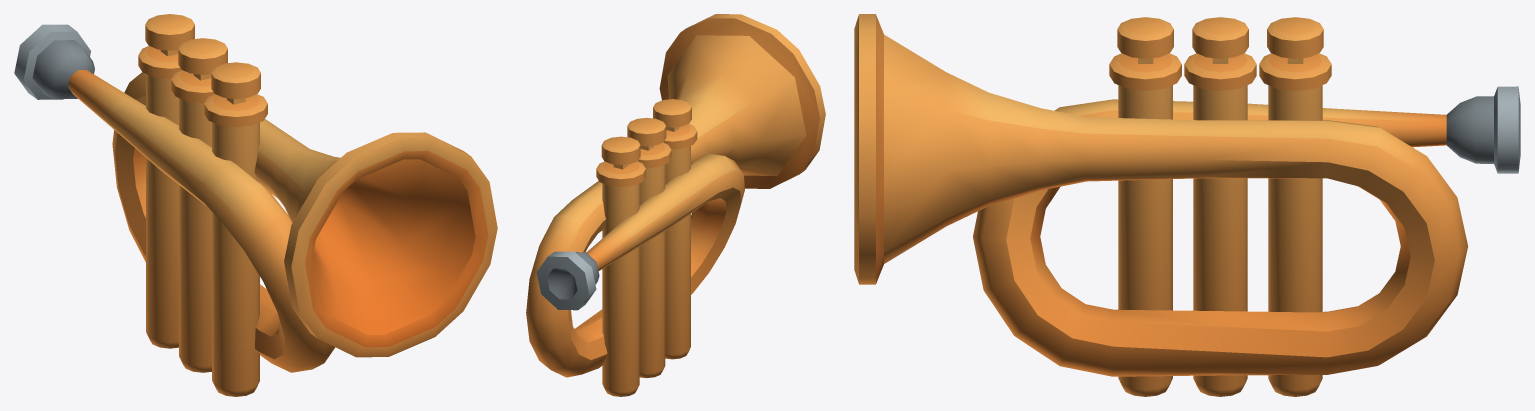
The model's file is ToySoldier_Trumpet.obj.
3 views of the same model, side by side, from view 1: azimuth 30°, elevation 25°; view 2: azimuth 150°, elevation 25°; view 3: azimuth 270°, elevation 25° (orthographic). The views are drawn at different scales.
Parts seen in each view (by area): view 1: ToySoldier_Trumpet; view 2: ToySoldier_Trumpet; view 3: ToySoldier_Trumpet.
Boxes of the visible parts, box(x1,y1,x2,y2) form: ToySoldier_Trumpet: box(14, 14, 497, 396); ToySoldier_Trumpet: box(526, 14, 825, 396); ToySoldier_Trumpet: box(854, 14, 1520, 396).
Size of the model in its own units: 0.4568 by 0.7118 by 1.13.
Materials: 1 (1 with a texture image).
